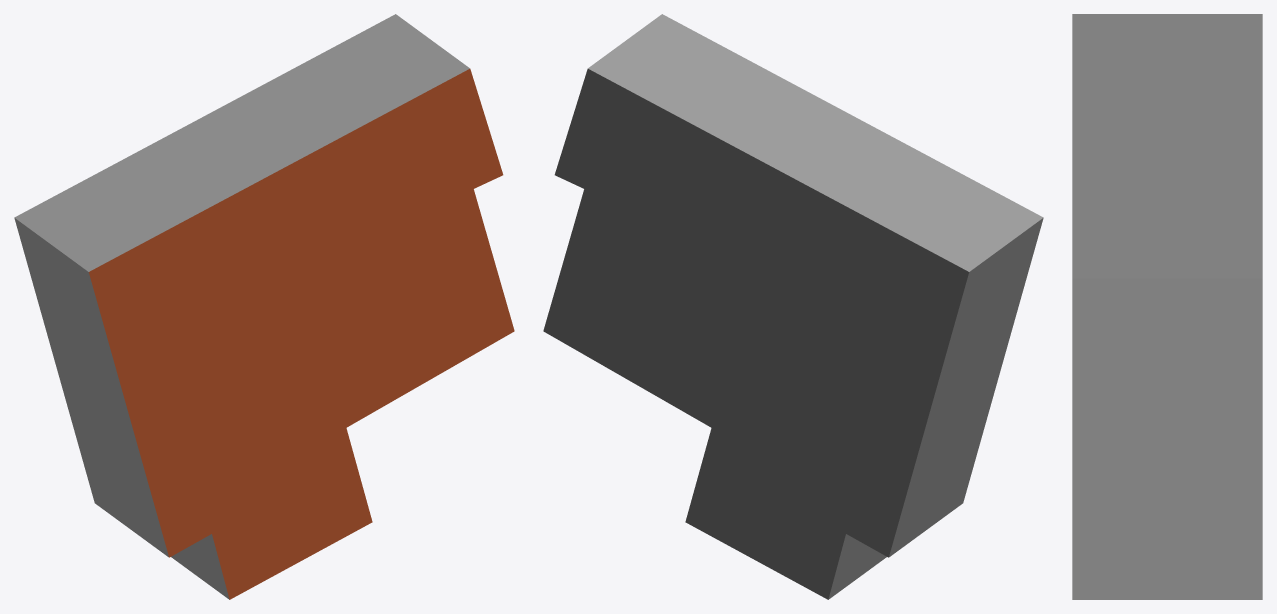
Rendered from construction_6310_assumed_A_Casa_h6m.obj.
The picture shows the model from 3 angles, left to right: view 1: azimuth 30°, elevation 25°; view 2: azimuth 150°, elevation 25°; view 3: azimuth 270°, elevation 25°; orthographic projection. The views are drawn at different scales.
Parts seen in each view (by area): view 1: construction_6310_assumed_A_Casa; view 2: construction_6310_assumed_A_Casa; view 3: construction_6310_assumed_A_Casa.
Part boxes in pixels (bbox=[...]): construction_6310_assumed_A_Casa: bbox=[14, 14, 514, 599]; construction_6310_assumed_A_Casa: bbox=[543, 14, 1043, 599]; construction_6310_assumed_A_Casa: bbox=[1072, 14, 1262, 599].
Size of the model in its own units: 19.82 by 21.02 by 6.
